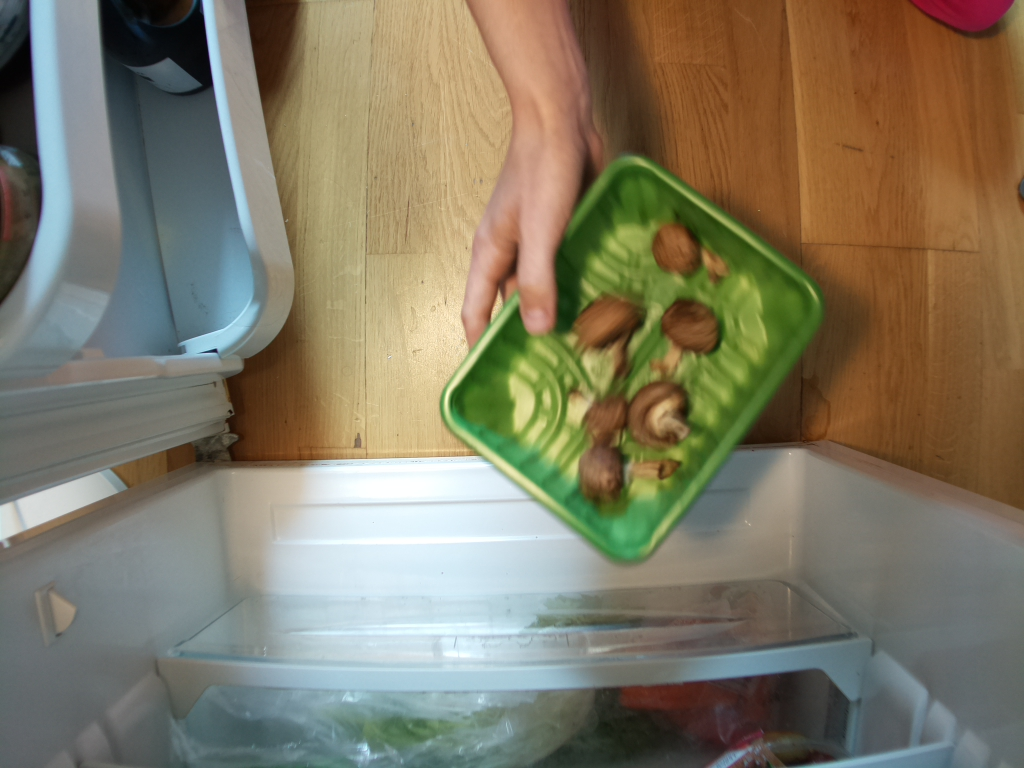mushrooms-bad: (439, 153, 827, 565)
